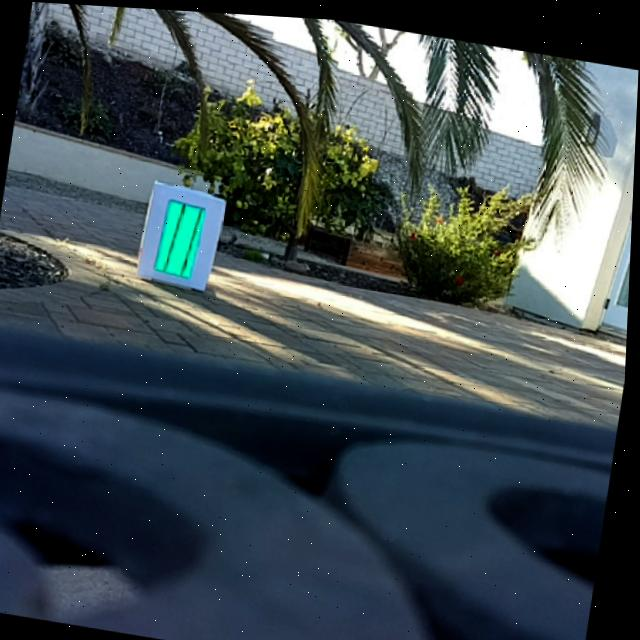led: (155, 193, 209, 278)
